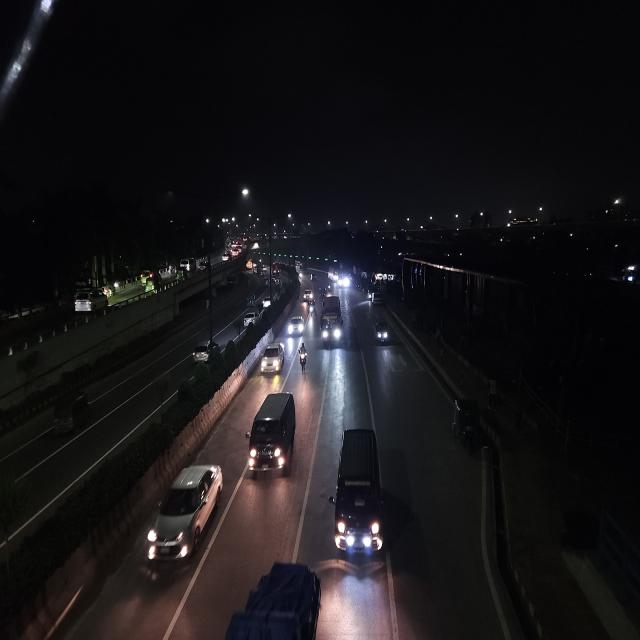bus: (320, 293, 344, 350), (331, 261, 351, 289)
car: (142, 459, 225, 577), (333, 421, 385, 568), (246, 387, 298, 481), (72, 284, 110, 314), (259, 342, 285, 378), (190, 336, 220, 367), (373, 317, 391, 347), (287, 313, 305, 337), (241, 308, 257, 330), (368, 287, 382, 306), (302, 285, 314, 304), (225, 272, 239, 288), (262, 292, 272, 308), (221, 252, 230, 263)
cng: (449, 395, 485, 458), (48, 389, 90, 438), (8, 333, 44, 358), (308, 300, 318, 318), (144, 279, 156, 294), (246, 294, 257, 308)
motorcycle: (296, 338, 309, 374)
